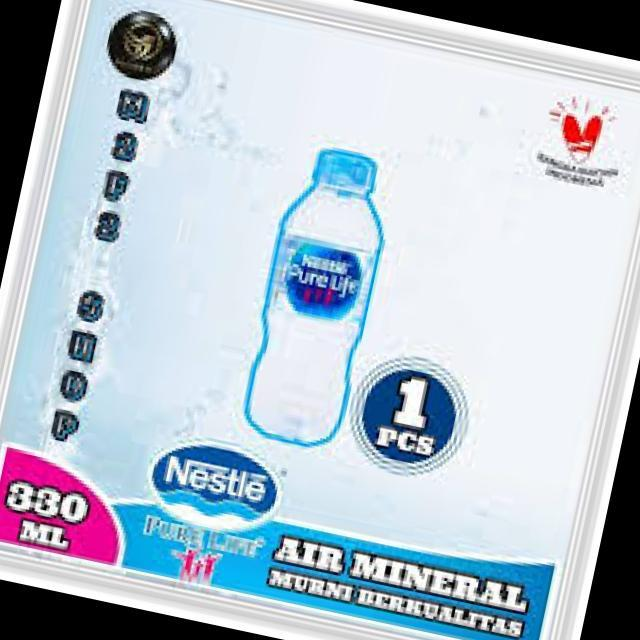good: (215, 138, 414, 466)
